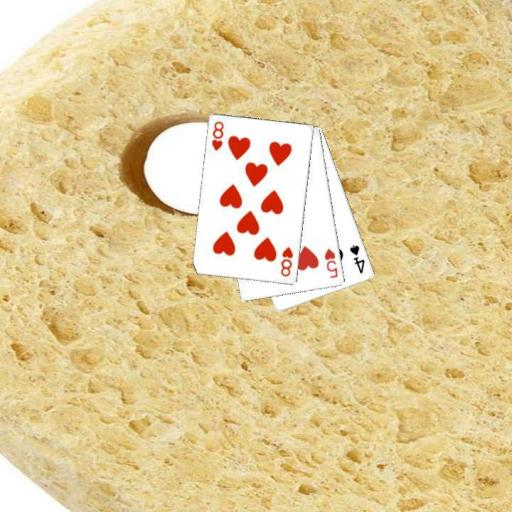card-corner: (347, 242, 366, 275), (322, 246, 340, 280), (208, 118, 226, 152), (278, 244, 294, 278)
